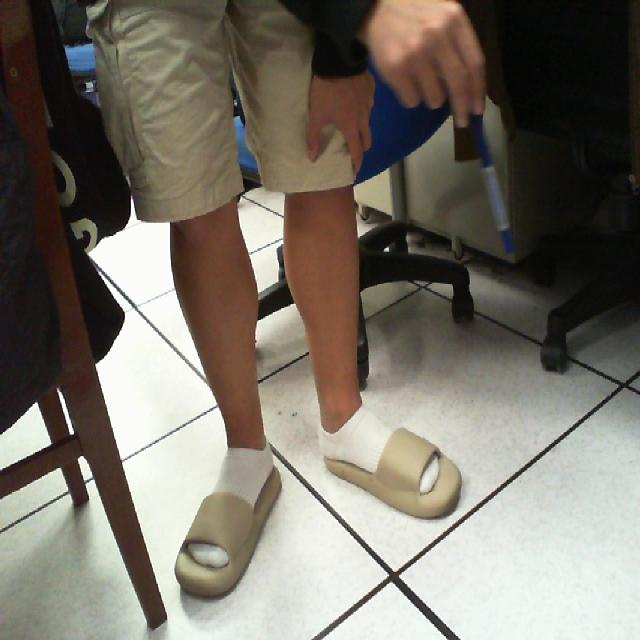Pen: (459, 82, 533, 280)
